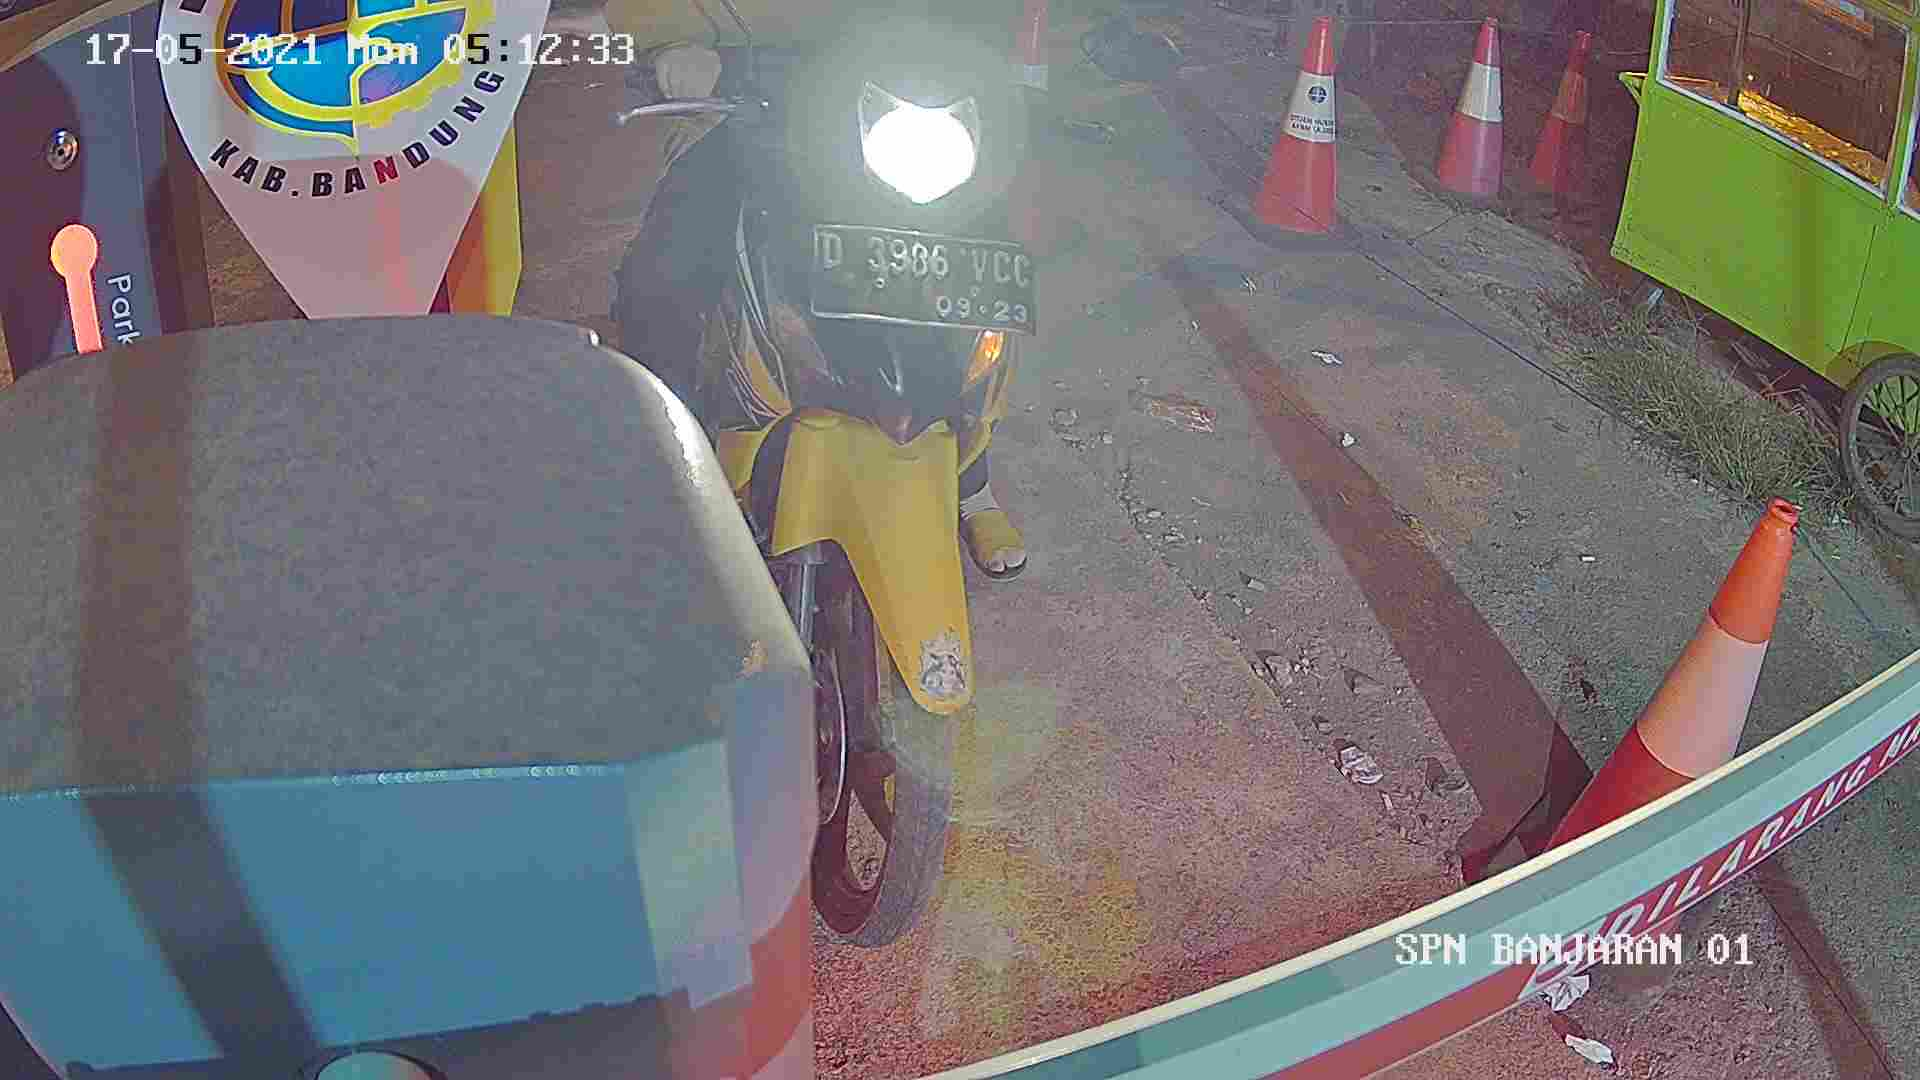motor: (644, 78, 1054, 957)
